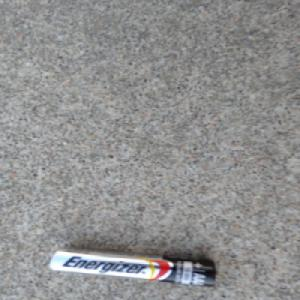Battery: (45, 247, 217, 287)
